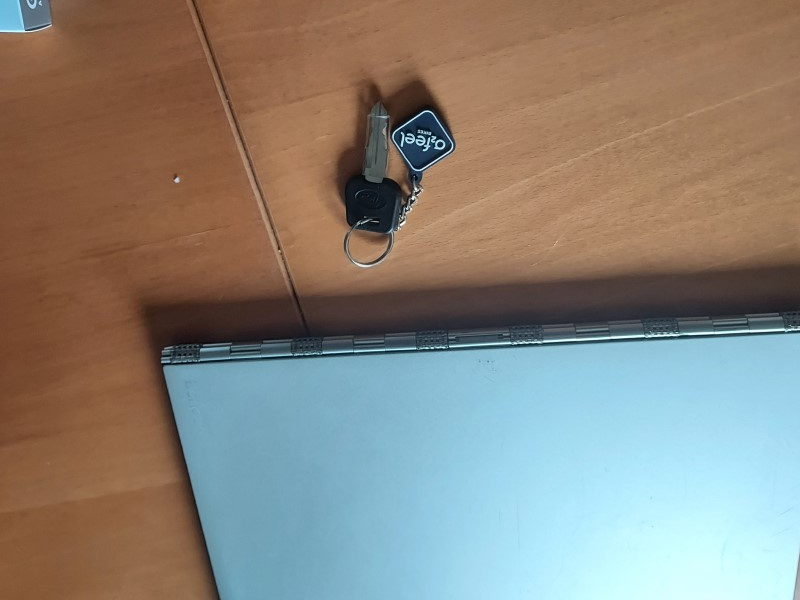key: (339, 100, 408, 234)
